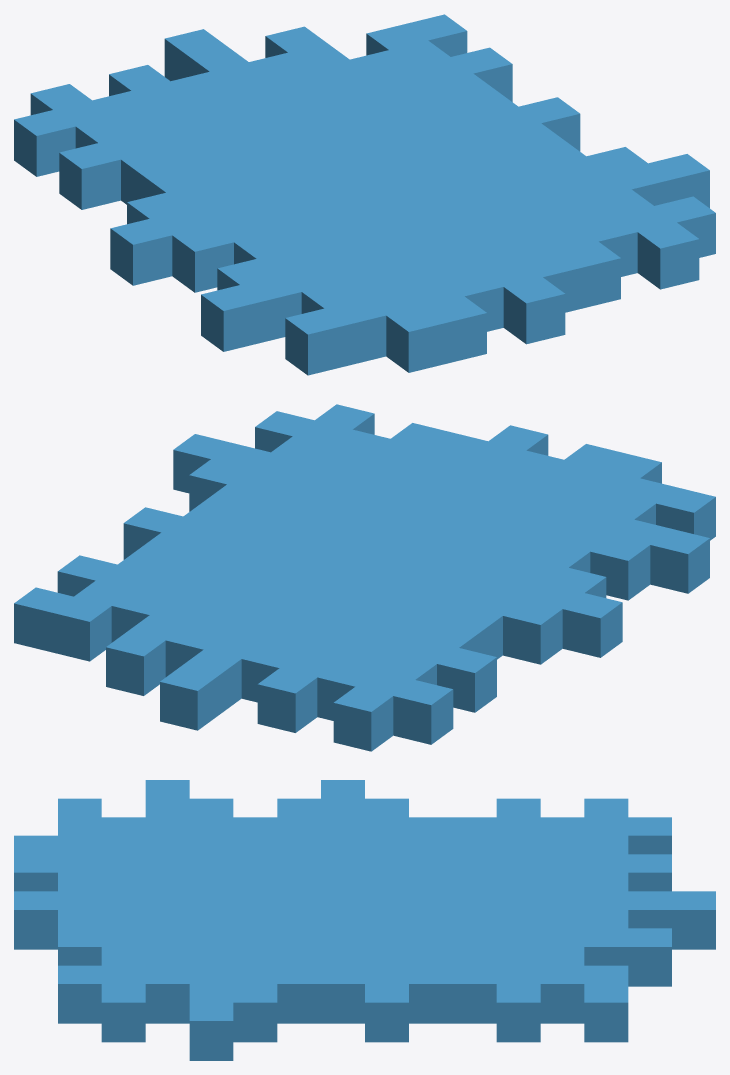
Rendered from ice.obj.
3 renders of one model, top to bottom at view 1: azimuth 30°, elevation 25°; view 2: azimuth 150°, elevation 25°; view 3: azimuth 270°, elevation 25°, orthographic. The views are drawn at different scales.
Size of the model in its own units: 1.3 by 0.1 by 1.6.
Materials: 1 (1 with a texture image).
